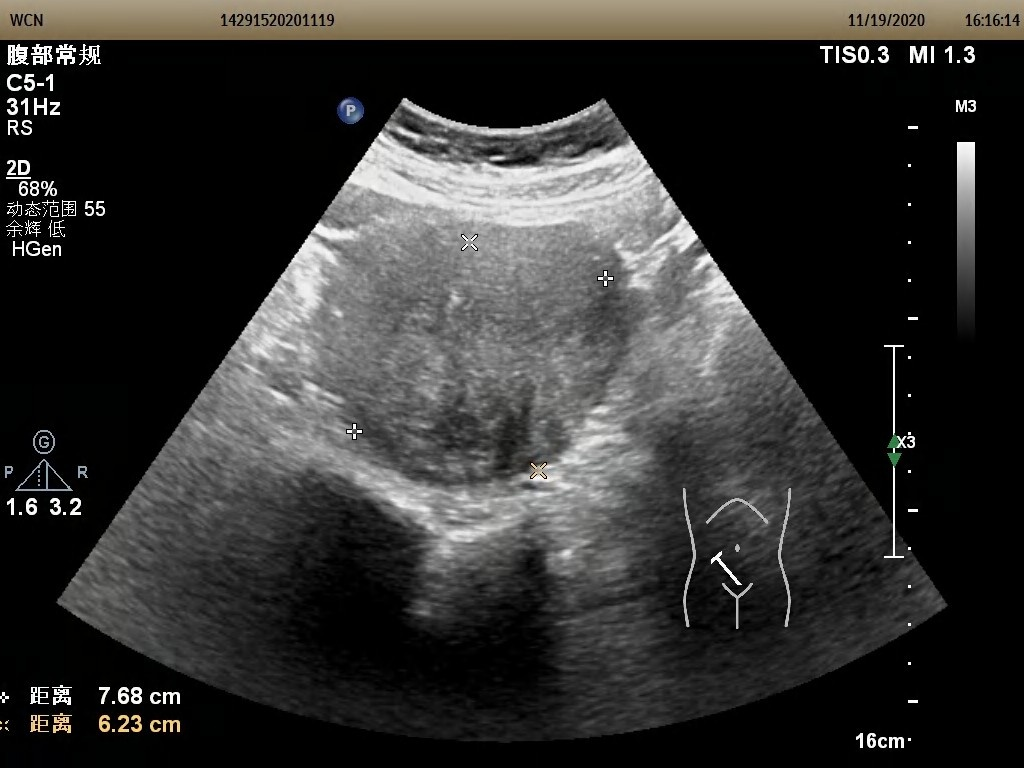肌瘤: (361, 239, 613, 481)
